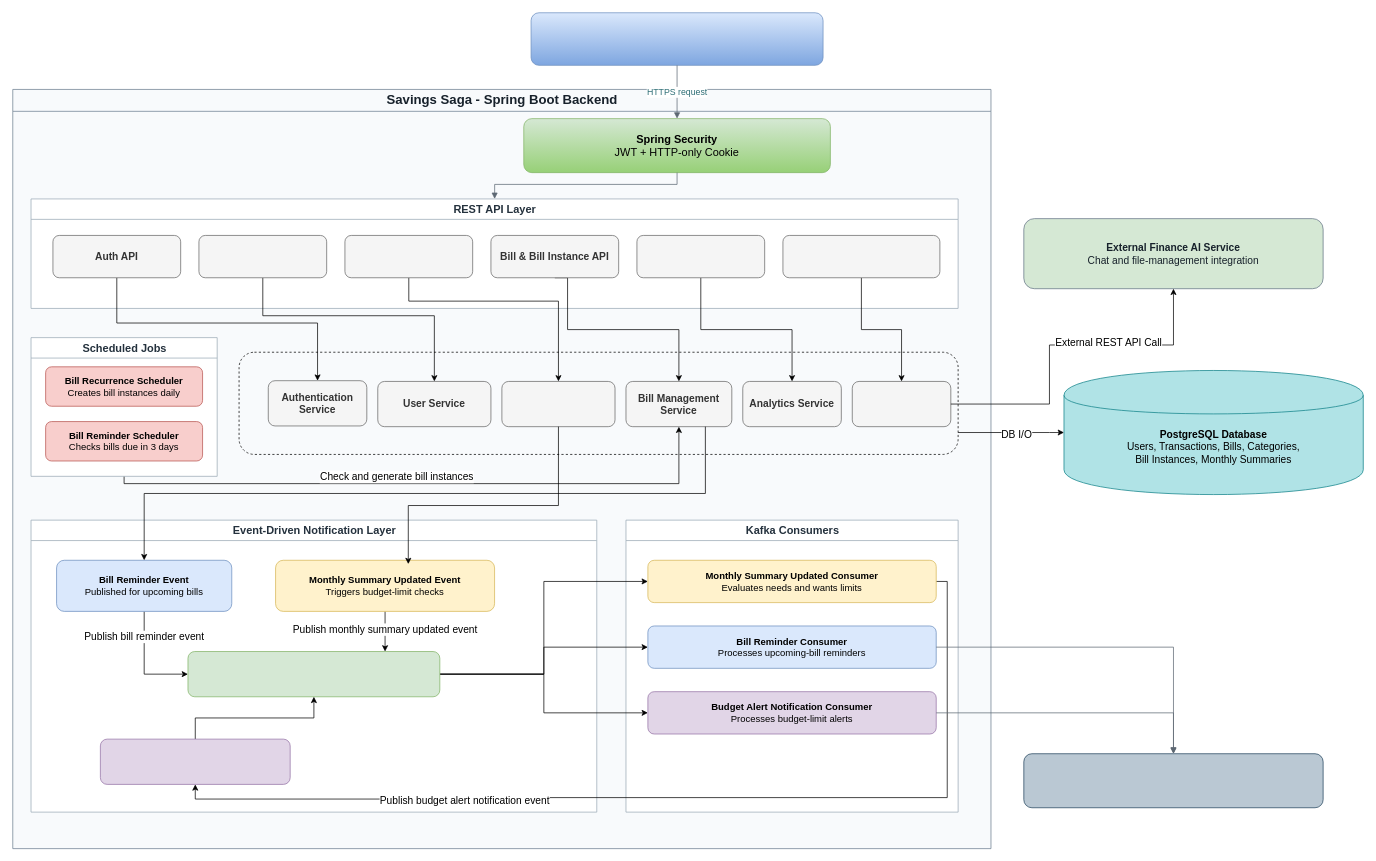
This 1376x861 diagram has some shape labels left out. The centre of each missing label's shape, as x and y in pixels:
"Analytics API" goes at (700,256).
"Apache Kafka Event topics for asynchronous processing" goes at (313,674).
"Budget Alert Notification Event 90% and 100% thresholds" goes at (195,761).
"Client Application Web / Mobile UI" goes at (676,38).
"Finance AI API" goes at (861,256).
"Finance AI Client" goes at (901,404).
"SMTP Email Service Bill reminders and budget alerts" goes at (1173,780).
"Transaction & Budget Service" goes at (558,404).
"Transaction API" goes at (408,256).
"User Profile API" goes at (262,256).
